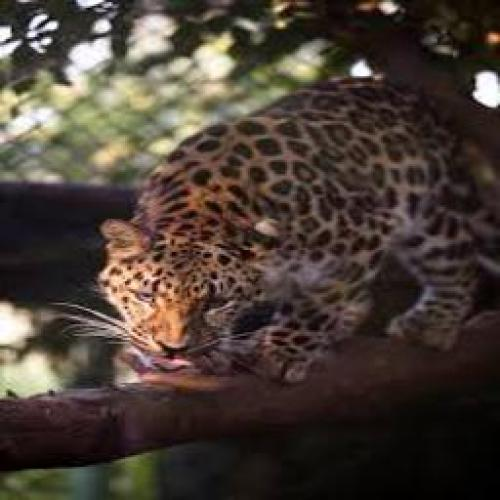amur_leopard-endangered: (94, 75, 479, 376)
